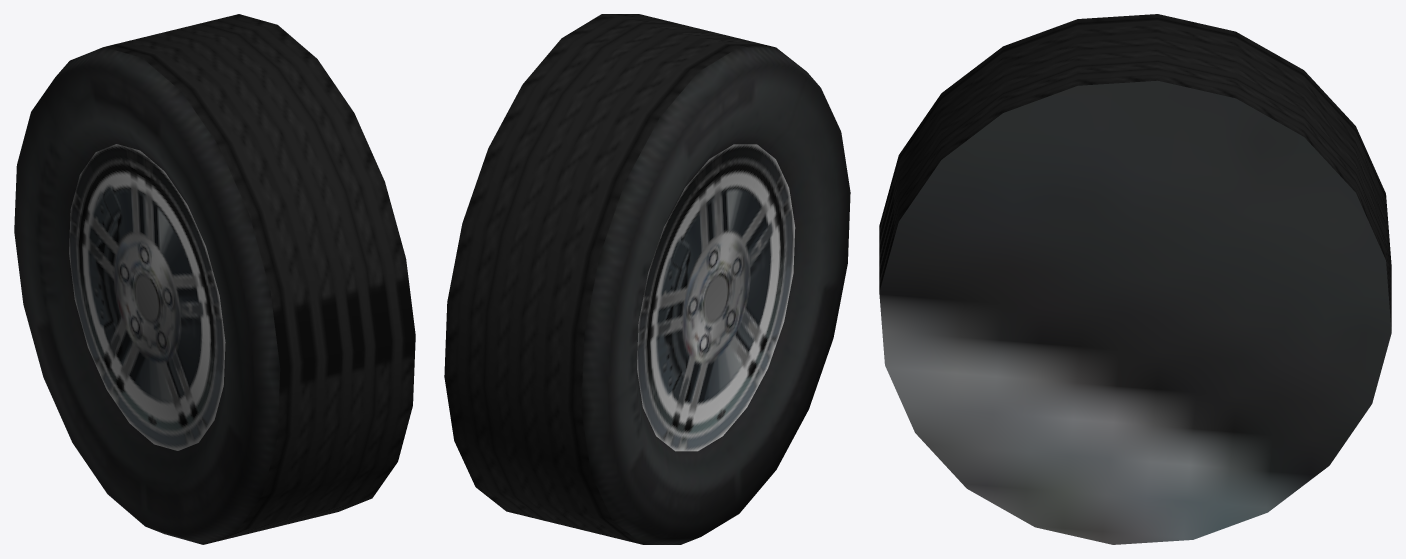
Rendered from wheel_ember.FBX.
The picture shows the model from 3 angles, left to right: view 1: azimuth 30°, elevation 25°; view 2: azimuth 150°, elevation 25°; view 3: azimuth 270°, elevation 25°; orthographic projection.
Parts seen in each view (by area): view 1: wheel; view 2: wheel; view 3: wheel.
Boxes of the visible parts, x1,y1,x2,y2 form: wheel: (14, 14, 415, 544); wheel: (444, 14, 850, 544); wheel: (879, 14, 1391, 544).
Size of the model in its own units: 0.0337 by 0.0962 by 0.0962.
